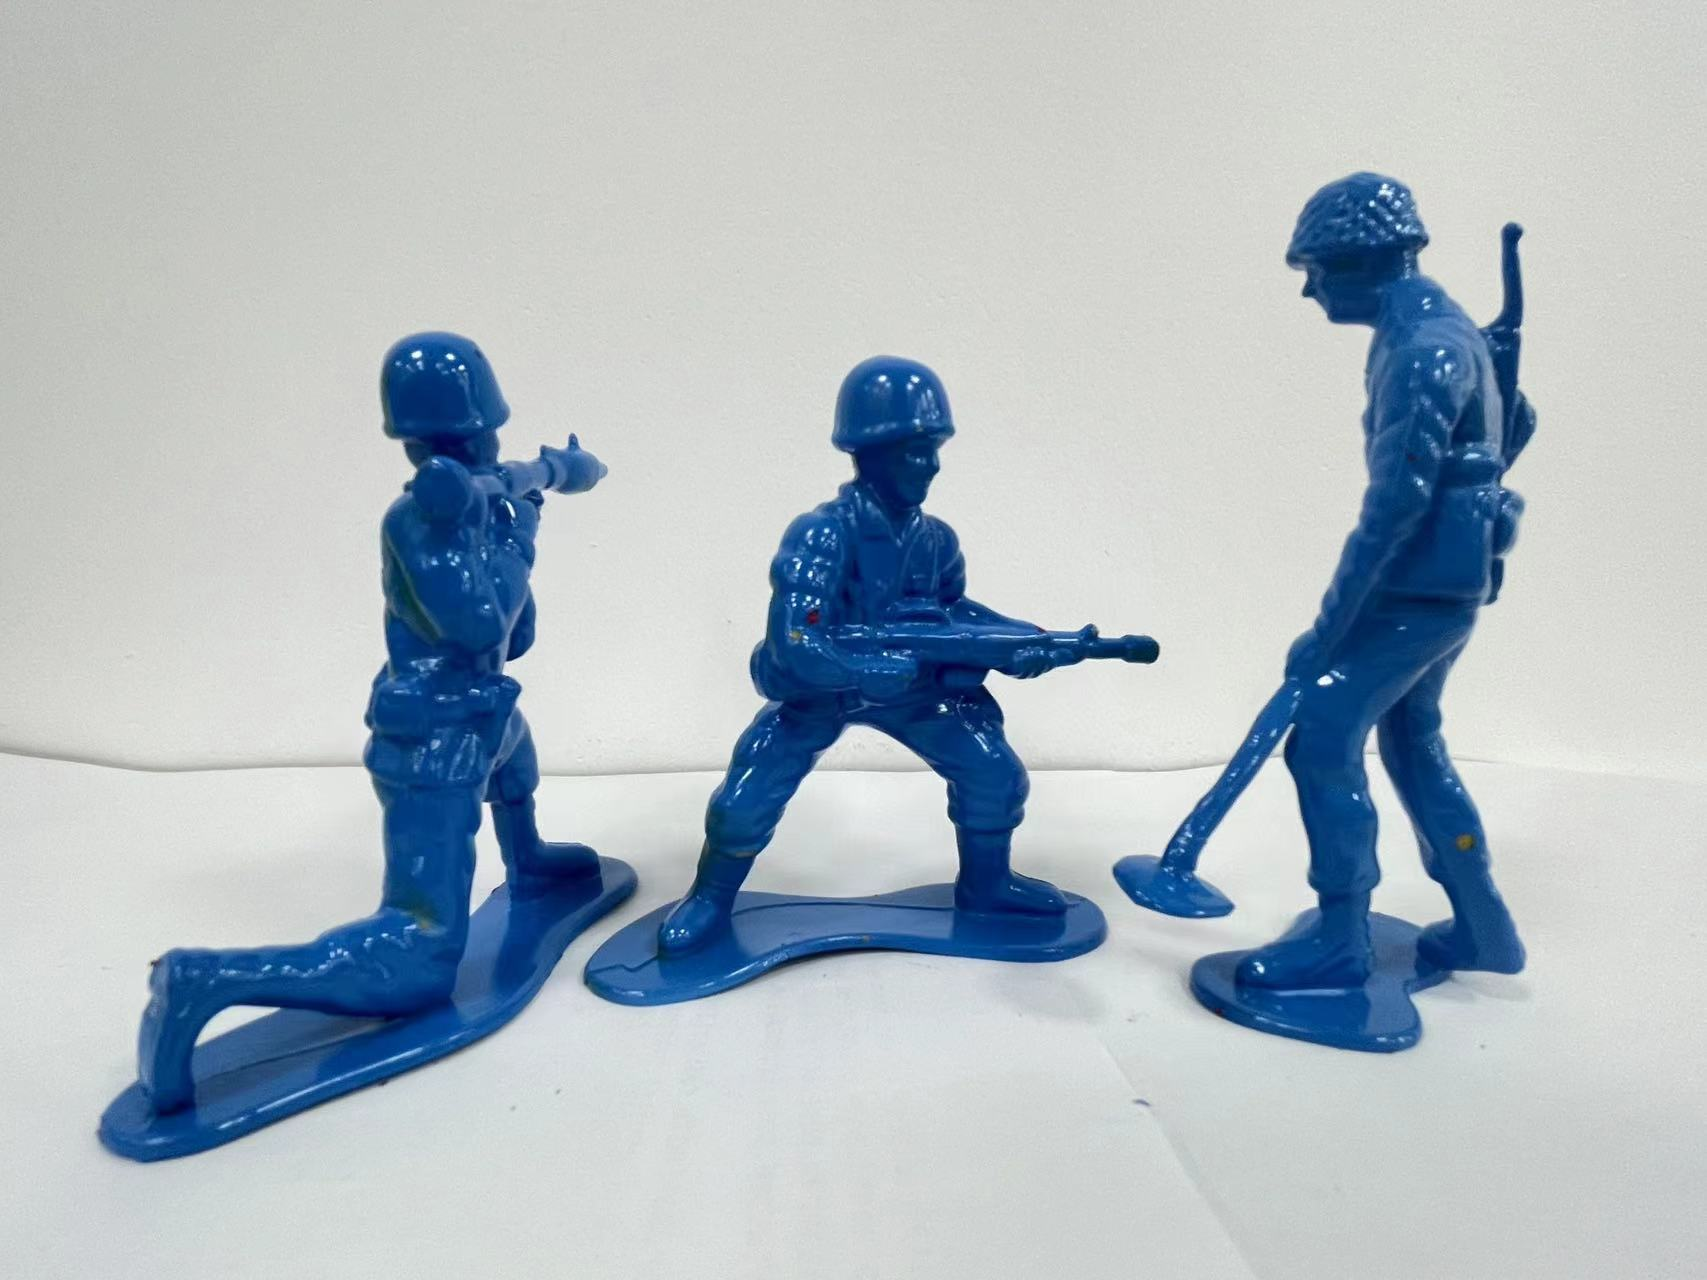blue: (1120, 133, 1629, 1140), (52, 282, 628, 1146), (610, 311, 1152, 1093)
